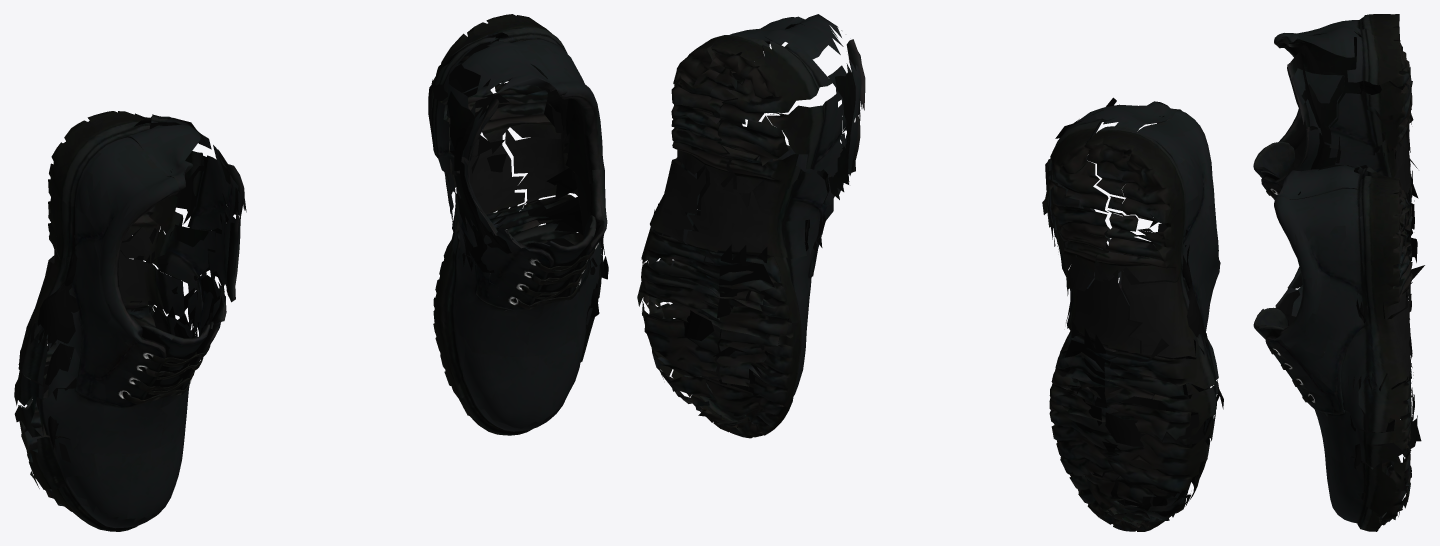
Rendered from adult-base-01.glb.
3 renders of one model, left to right at view 1: azimuth 30°, elevation 25°; view 2: azimuth 150°, elevation 25°; view 3: azimuth 270°, elevation 25°, orthographic. The views are drawn at different scales.
Visible parts, largest first — view 1: geometry_0; view 2: geometry_0; view 3: geometry_0.
Boxes of the visible parts, bbox=[...] form: geometry_0: bbox=[14, 14, 608, 531]; geometry_0: bbox=[637, 14, 1223, 531]; geometry_0: bbox=[1253, 14, 1424, 531].
Bounding box in the file's own units: 0.00397 × 0.00268 × 0.0012.
Materials: 1 (1 with a texture image).
